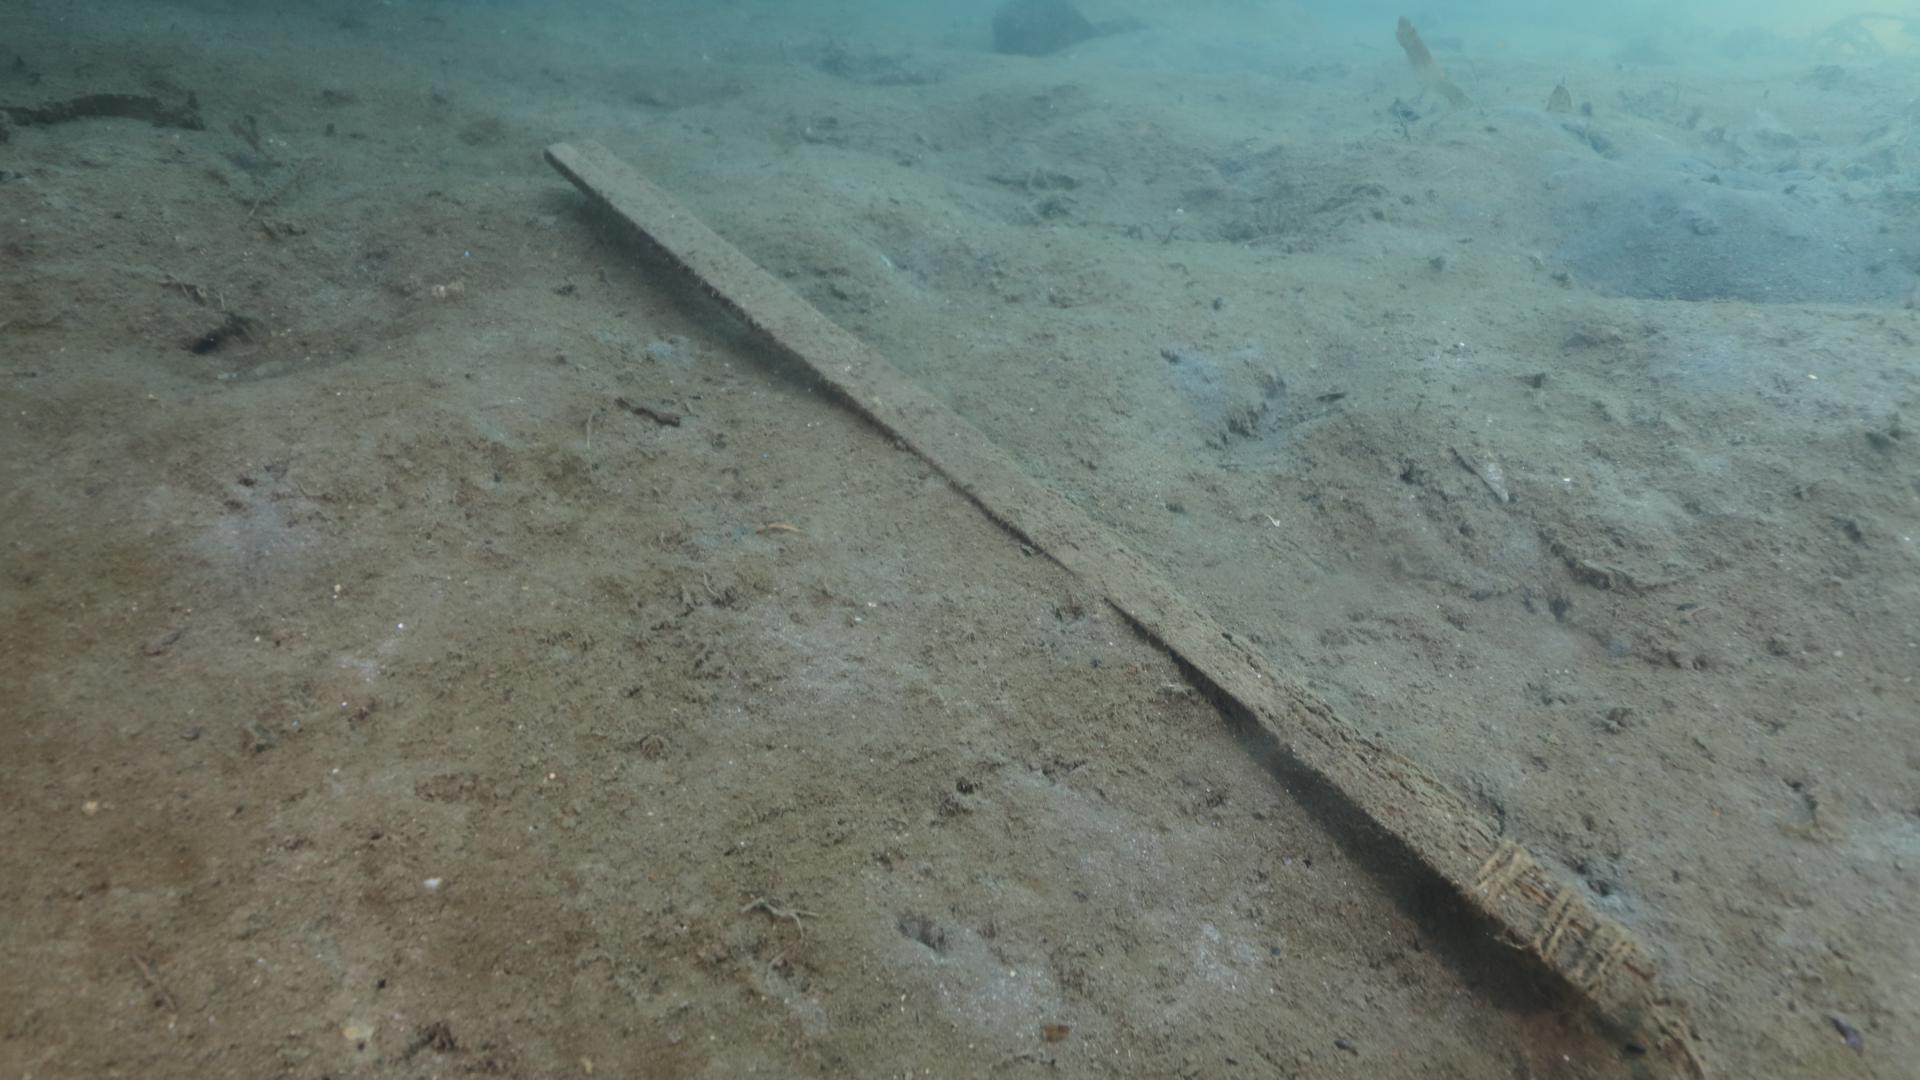wood: (541, 135, 1662, 1039)
